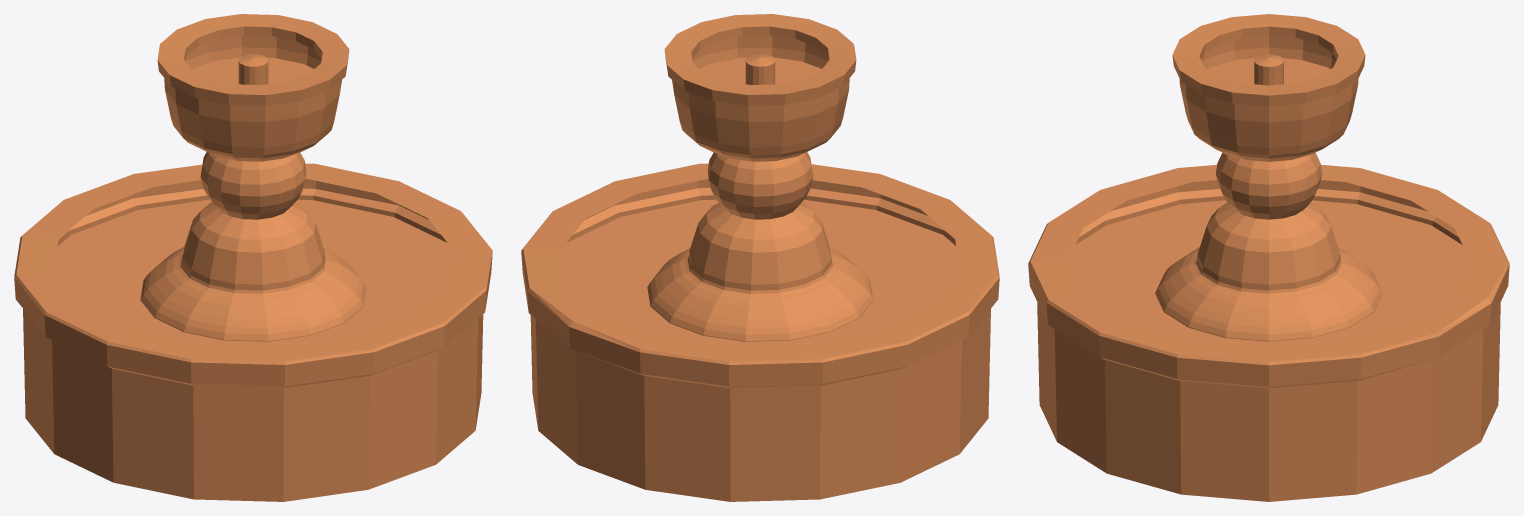
The model's file is fuente.fbx.
3 views of the same model, side by side, from view 1: azimuth 30°, elevation 25°; view 2: azimuth 150°, elevation 25°; view 3: azimuth 270°, elevation 25° (orthographic).
Visible parts, largest first — view 1: fuente; view 2: fuente; view 3: fuente.
Part boxes in pixels (box(x1,y1,x2,y2)): fuente: box(14, 14, 492, 501); fuente: box(521, 14, 999, 501); fuente: box(1028, 14, 1509, 501).
Bounding box in the file's own units: 81.79 × 65.64 × 81.79.
